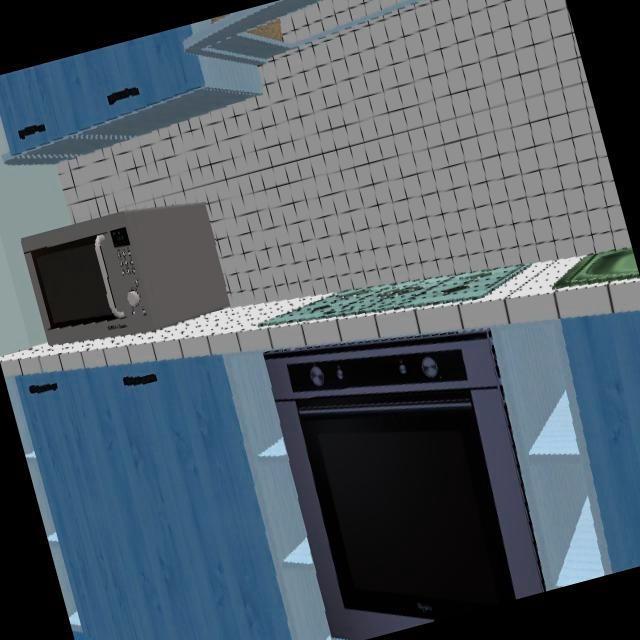cabinet: (12, 358, 291, 640), (559, 309, 640, 573)
countertop: (0, 251, 634, 378)
microwave: (21, 204, 228, 337)
oven: (264, 339, 547, 640)
sink: (555, 247, 640, 290)
stove: (257, 265, 528, 325)
